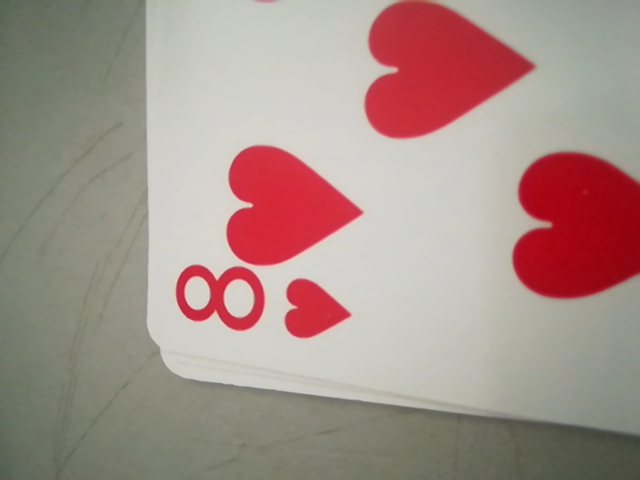hx 8: (166, 258, 363, 353)
